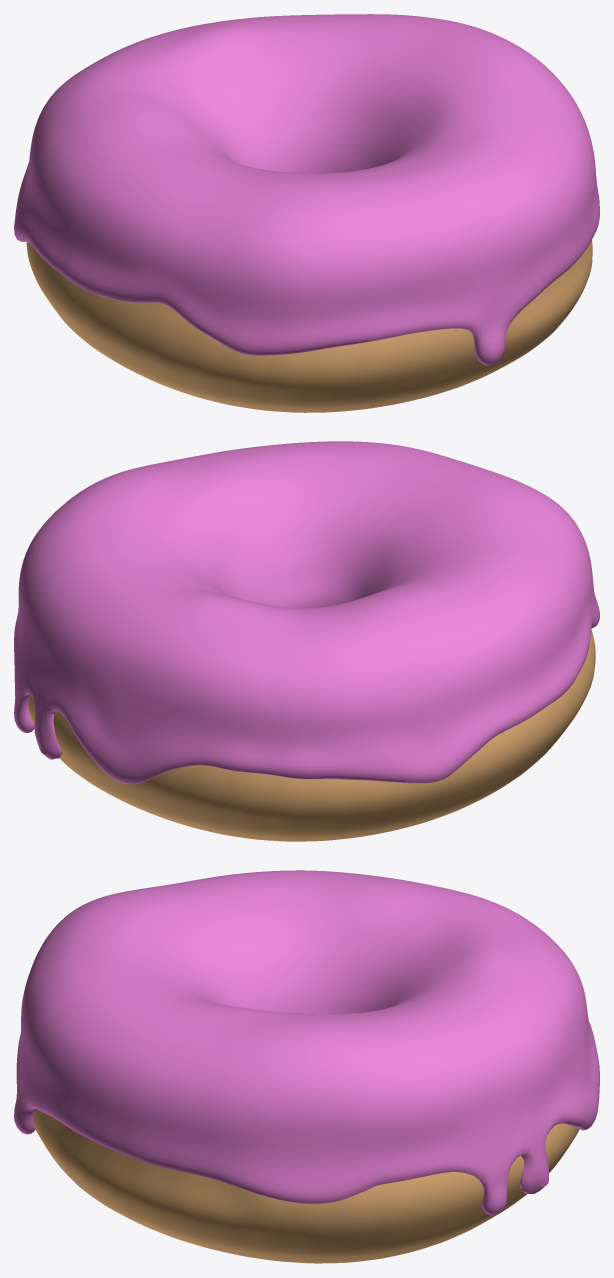
The model's file is donut.glb.
3 views of the same model, one above another, from view 1: azimuth 30°, elevation 25°; view 2: azimuth 150°, elevation 25°; view 3: azimuth 270°, elevation 25° (orthographic). The views are drawn at different scales.
Visible parts, largest first — view 1: Icing, Donut; view 2: Icing, Donut; view 3: Icing, Donut.
Part boxes in pixels (x1=…): Icing: x1=14, y1=14, x2=599, y2=365; Donut: x1=26, y1=240, x2=592, y2=412; Icing: x1=14, y1=441, x2=599, y2=784; Donut: x1=28, y1=629, x2=595, y2=841; Icing: x1=14, y1=870, x2=599, y2=1215; Donut: x1=33, y1=1109, x2=579, y2=1263.
Size of the model in its own units: 0.0999 by 0.0449 by 0.1019.
